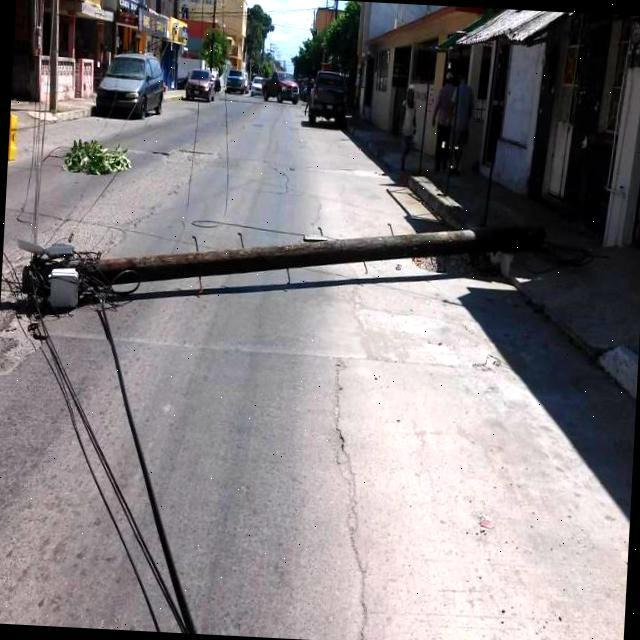Broken Pole: (17, 224, 545, 313)
